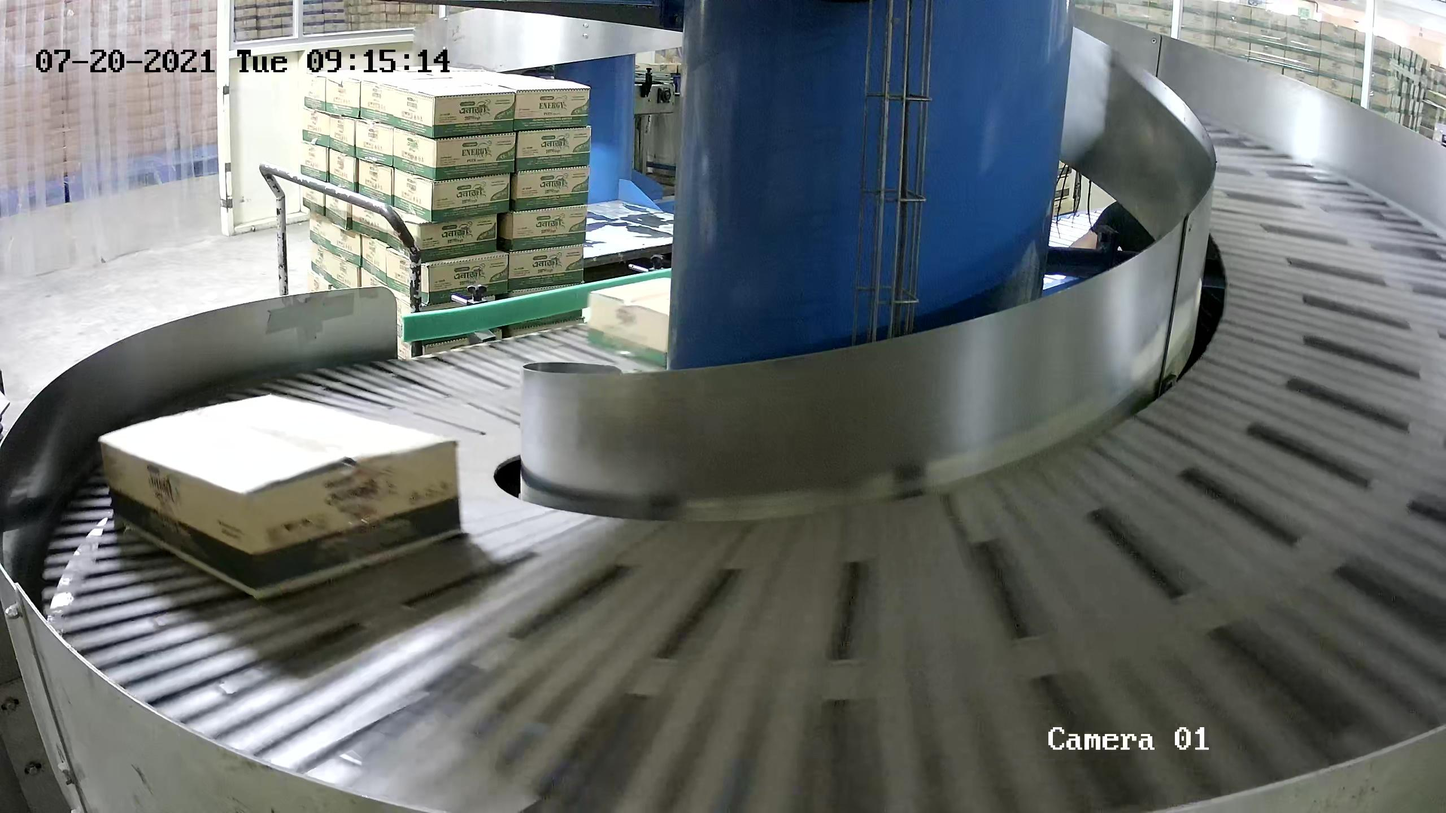Box: (97, 393, 467, 605), (585, 274, 730, 370)
